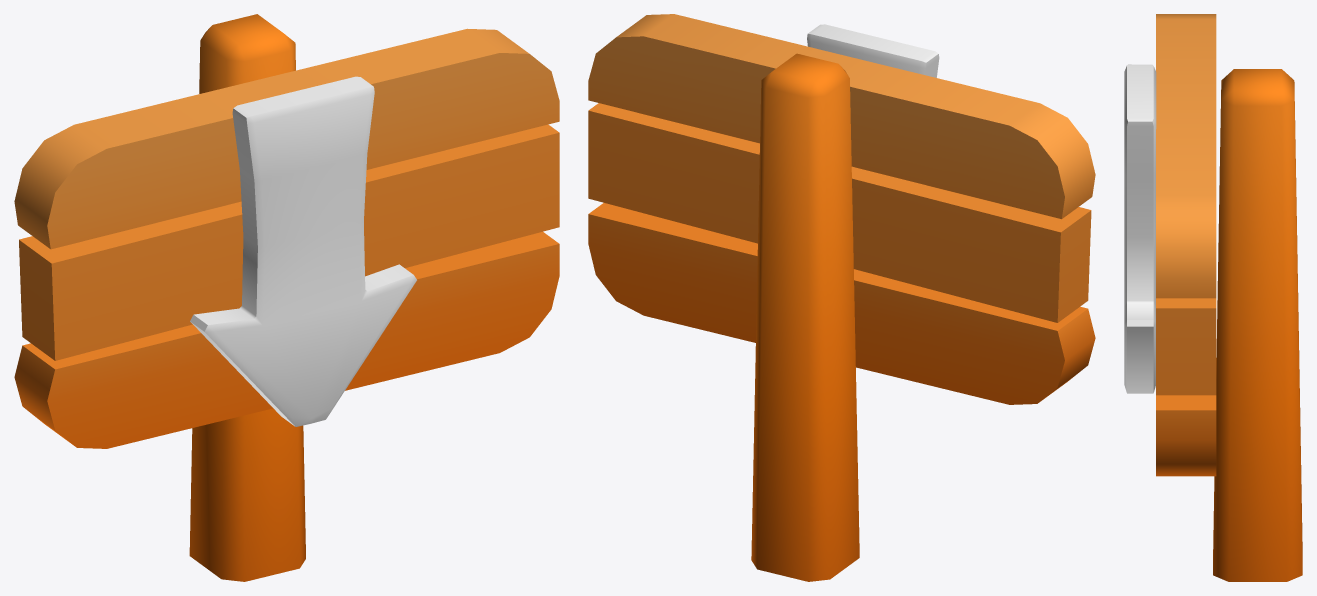
File: Prop_Wooden_Sign_04.fbx
The picture shows the model from 3 angles, left to right: view 1: azimuth 30°, elevation 25°; view 2: azimuth 150°, elevation 25°; view 3: azimuth 270°, elevation 25°; orthographic projection. The views are drawn at different scales.
Parts seen in each view (by area): view 1: Prop_Wooden_Sign_04; view 2: Prop_Wooden_Sign_04; view 3: Prop_Wooden_Sign_04.
Boxes of the visible parts, x1,y1,x2,y2 form: Prop_Wooden_Sign_04: [14, 14, 559, 581]; Prop_Wooden_Sign_04: [588, 14, 1095, 581]; Prop_Wooden_Sign_04: [1124, 14, 1302, 581].
Bounding box in the file's own units: 90.11 × 88.8 × 29.65.
